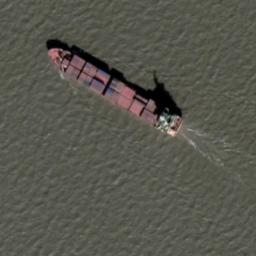boat: (46, 42, 184, 136)
